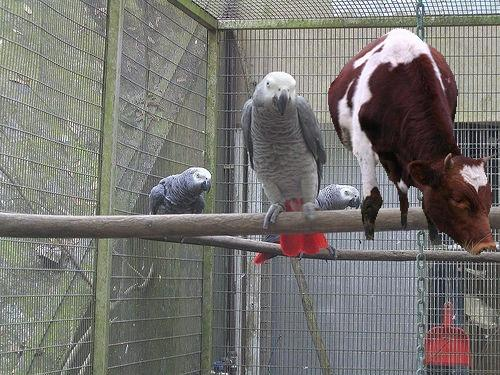tampered: (329, 29, 497, 255)
